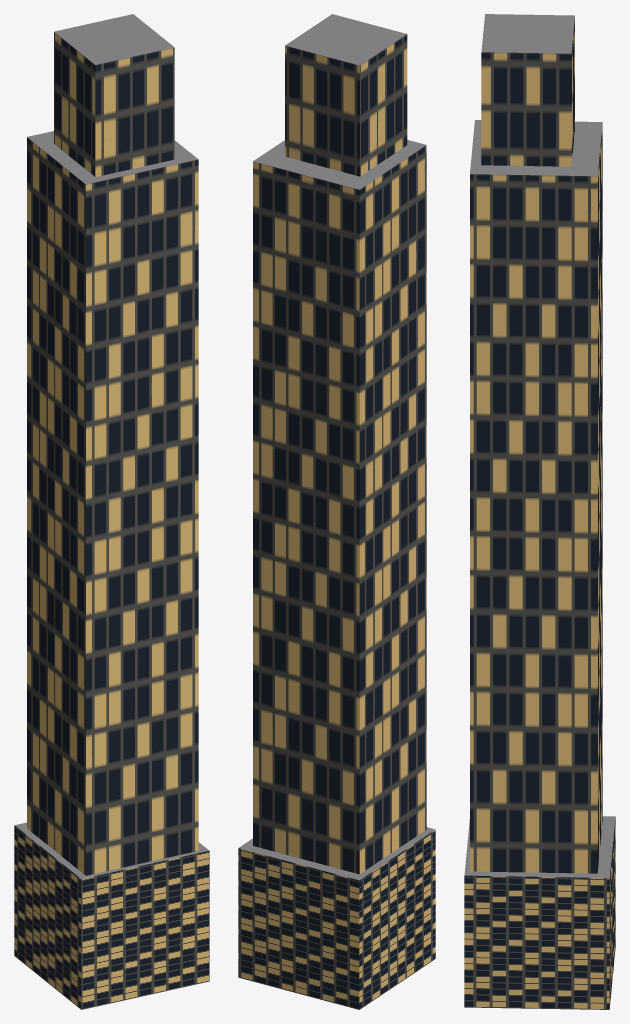
The model's file is maine-tower.glb.
3 renders of one model, left to right at view 1: azimuth 30°, elevation 25°; view 2: azimuth 150°, elevation 25°; view 3: azimuth 270°, elevation 25°, orthographic.
Parts seen in each view (by area): view 1: maine-tower; view 2: maine-tower; view 3: maine-tower.
Part boxes in pixels (x1,y1,x2,y2): maine-tower: (14, 14, 209, 1009); maine-tower: (238, 14, 435, 1009); maine-tower: (464, 14, 615, 1009).
Bounding box in the file's own units: 0.2637 × 1.81 × 0.2627.
2 materials, 1 textured.
